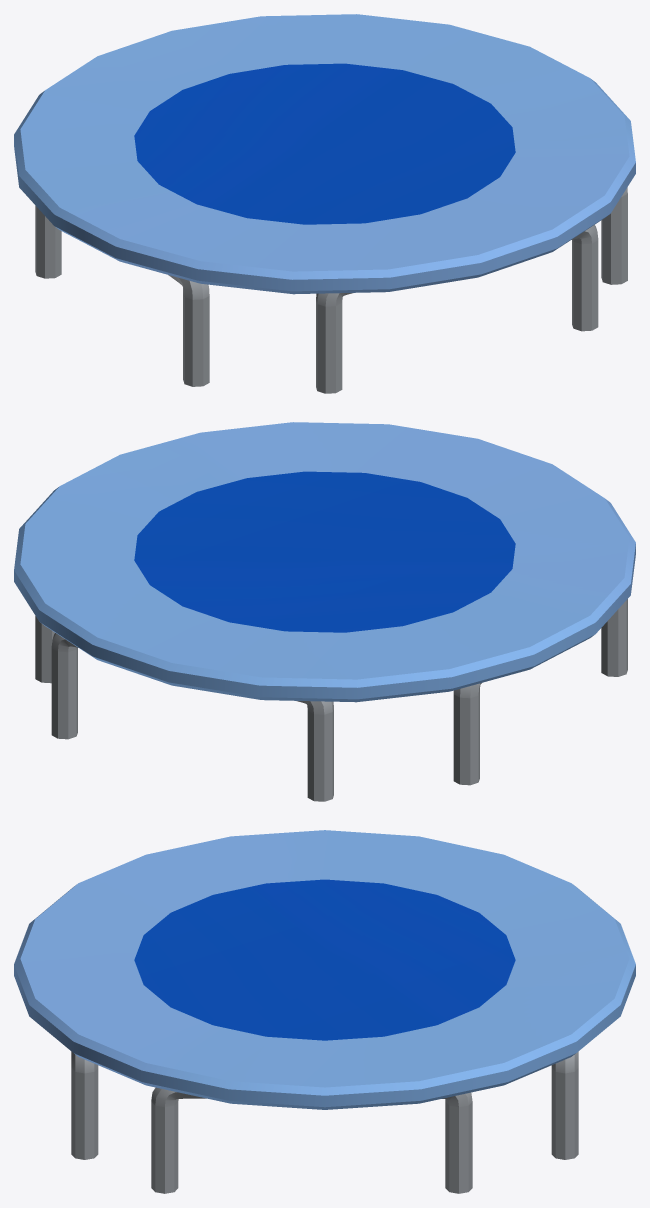
The model's file is Trampoline.fbx.
The picture shows the model from 3 angles, top to bottom: view 1: azimuth 30°, elevation 25°; view 2: azimuth 150°, elevation 25°; view 3: azimuth 270°, elevation 25°; orthographic projection.
Visible parts, largest first — view 1: pCylinder9; view 2: pCylinder9; view 3: pCylinder9.
Boxes of the visible parts, x1,y1,x2,y2 form: pCylinder9: (14,14,635,393); pCylinder9: (14,422,635,801); pCylinder9: (14,830,635,1193).
Size of the model in its own units: 6.46 by 1.46 by 6.46.
